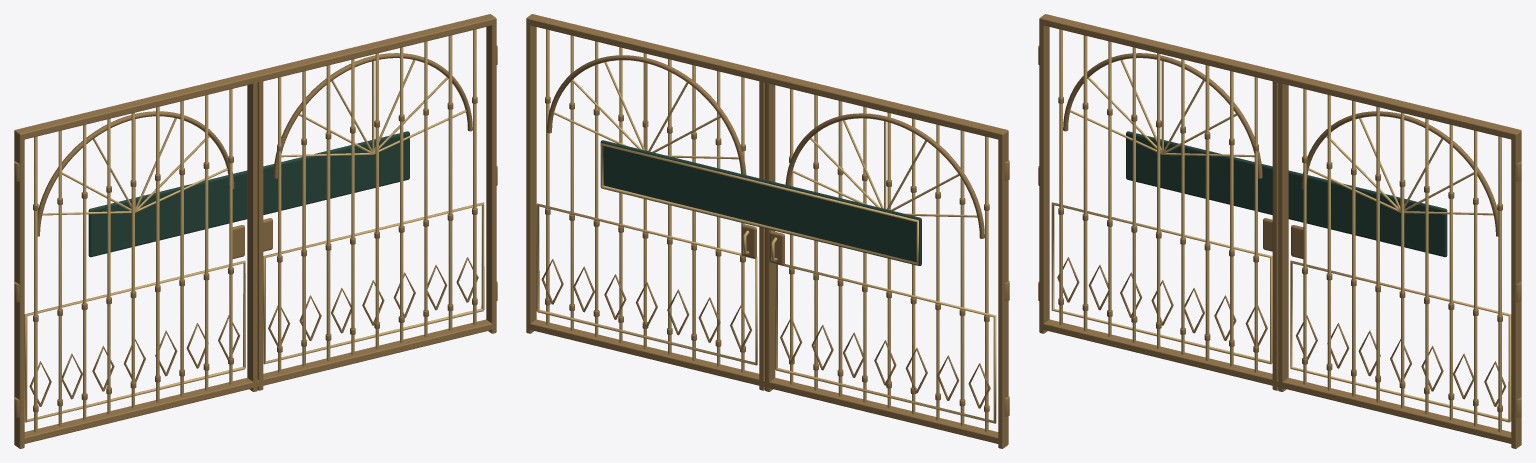
Rendered from hotel-entry-gate.glb.
3 renders of one model, left to right at view 1: azimuth 30°, elevation 25°; view 2: azimuth 150°, elevation 25°; view 3: azimuth 330°, elevation 25°, orthographic.
Parts seen in each view (by area): view 1: Entry gate / Entry aged bronze, Entry gate / Entry burnished gold, Entry gate / Entry bottle green enamel; view 2: Entry gate / Entry aged bronze, Entry gate / Entry burnished gold, Entry gate / Entry bottle green enamel; view 3: Entry gate / Entry aged bronze, Entry gate / Entry burnished gold, Entry gate / Entry bottle green enamel.
Boxes of the visible parts, left/top/right/bottom form: Entry gate / Entry aged bronze: left=14, top=14, right=497, bottom=448; Entry gate / Entry burnished gold: left=24, top=29, right=484, bottom=432; Entry gate / Entry bottle green enamel: left=88, top=131, right=409, bottom=257; Entry gate / Entry aged bronze: left=526, top=14, right=1009, bottom=448; Entry gate / Entry burnished gold: left=536, top=29, right=996, bottom=432; Entry gate / Entry bottle green enamel: left=600, top=140, right=921, bottom=265; Entry gate / Entry aged bronze: left=1038, top=14, right=1521, bottom=448; Entry gate / Entry burnished gold: left=1051, top=29, right=1511, bottom=432; Entry gate / Entry bottle green enamel: left=1126, top=131, right=1447, bottom=257.
Bounding box in the file's own units: 4.81 × 3.01 × 0.2098.
